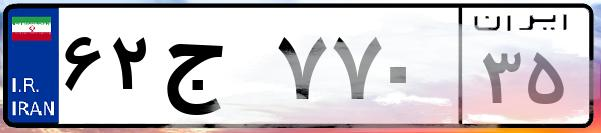0: (385, 28, 445, 110)
2: (110, 28, 158, 98)
3: (475, 38, 525, 113)
5: (525, 38, 570, 115)
6: (57, 26, 110, 100)
7: (270, 28, 330, 110), (330, 28, 385, 110)
ج: (158, 20, 270, 120)
